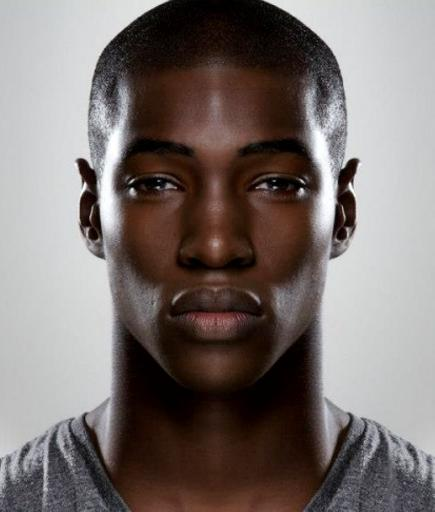left_eye: (246, 175, 309, 199)
left_lip_corner: (251, 305, 274, 324)
right_eye: (127, 176, 187, 199)
right_lip_corner: (160, 298, 188, 326)
